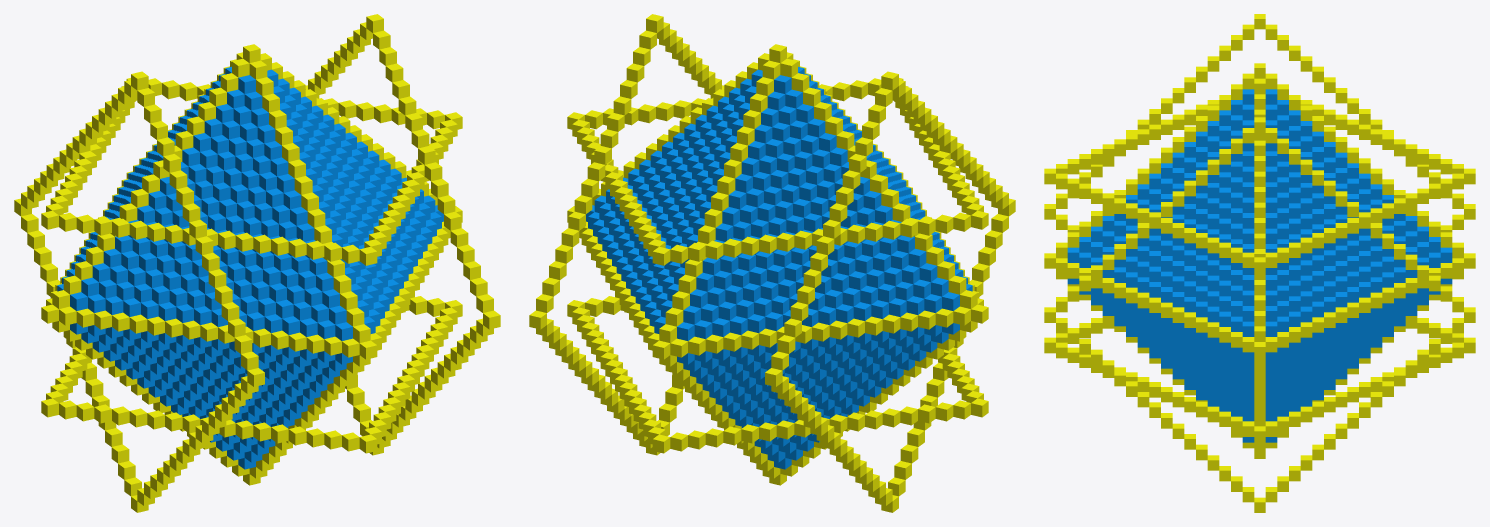
File: Nexus.FBX
3 views of the same model, side by side, from view 1: azimuth 30°, elevation 25°; view 2: azimuth 150°, elevation 25°; view 3: azimuth 270°, elevation 25° (orthographic). The views are drawn at different scales.
Parts seen in each view (by area): view 1: Nexus; view 2: Nexus; view 3: Nexus.
Boxes of the visible parts, left/top/right/bottom form: Nexus: left=14, top=14, right=500, bottom=512; Nexus: left=529, top=14, right=1015, bottom=512; Nexus: left=1044, top=14, right=1475, bottom=512.
Size of the model in its own units: 3.7 by 3.7 by 3.7.
Materials: 1 (1 with a texture image).
